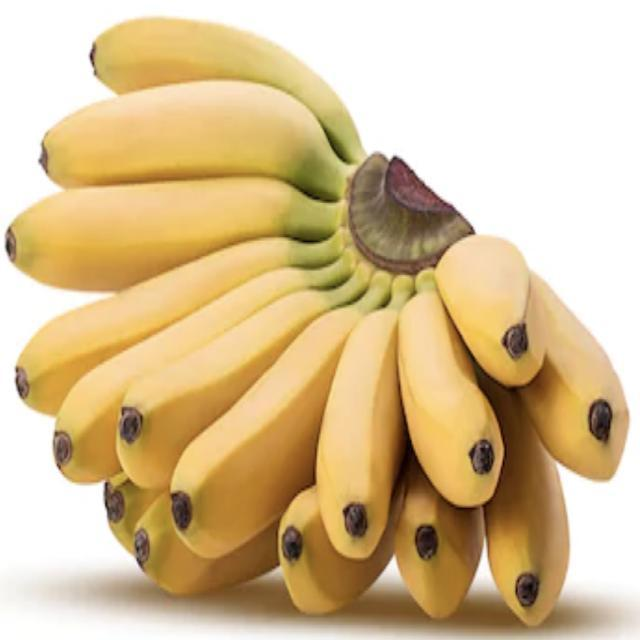Banana: (5, 16, 630, 626)
